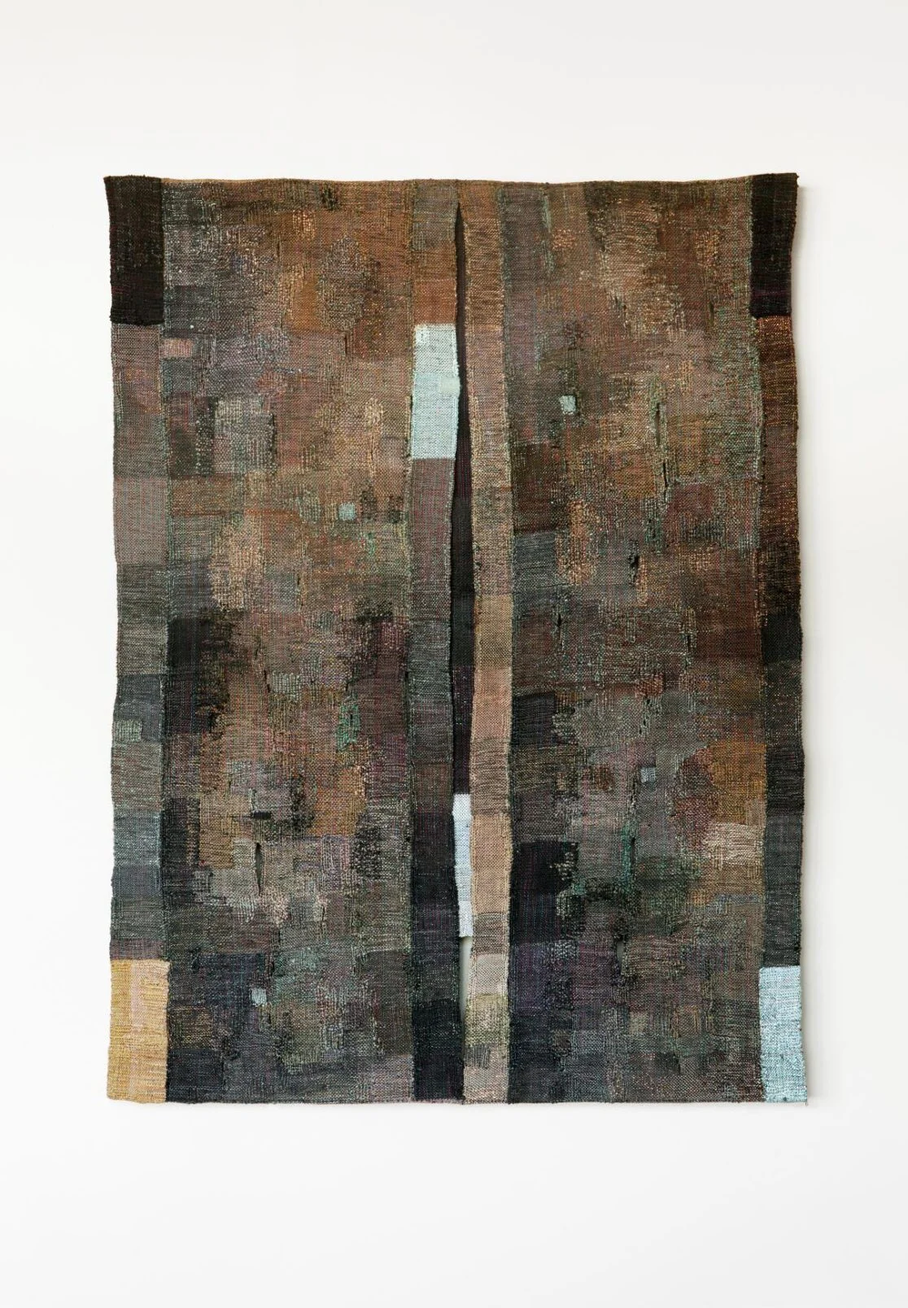painting: (104, 173, 806, 1105)
